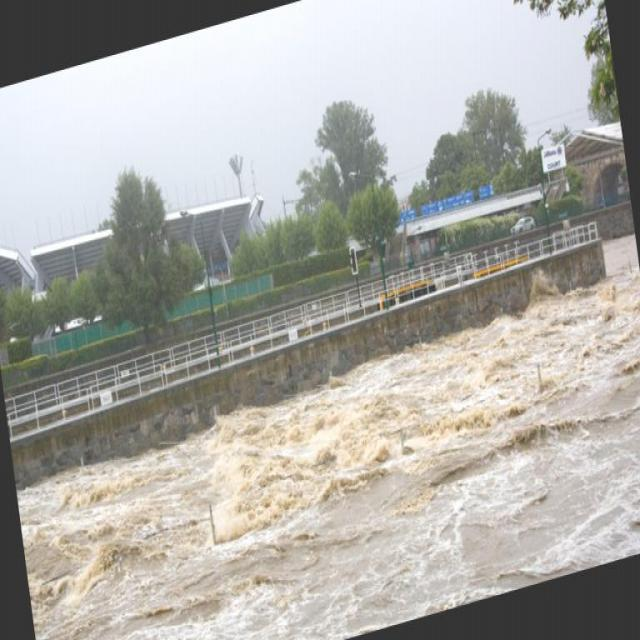flood: (11, 265, 639, 639)
